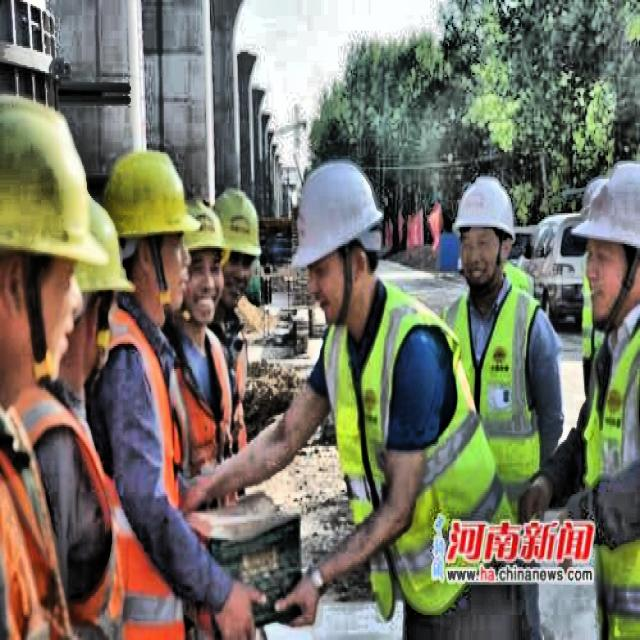helmet: (1, 83, 104, 392), (102, 140, 196, 331), (286, 159, 382, 325), (72, 194, 136, 377), (576, 162, 639, 334), (211, 184, 266, 310), (455, 175, 517, 284), (180, 194, 227, 329)
